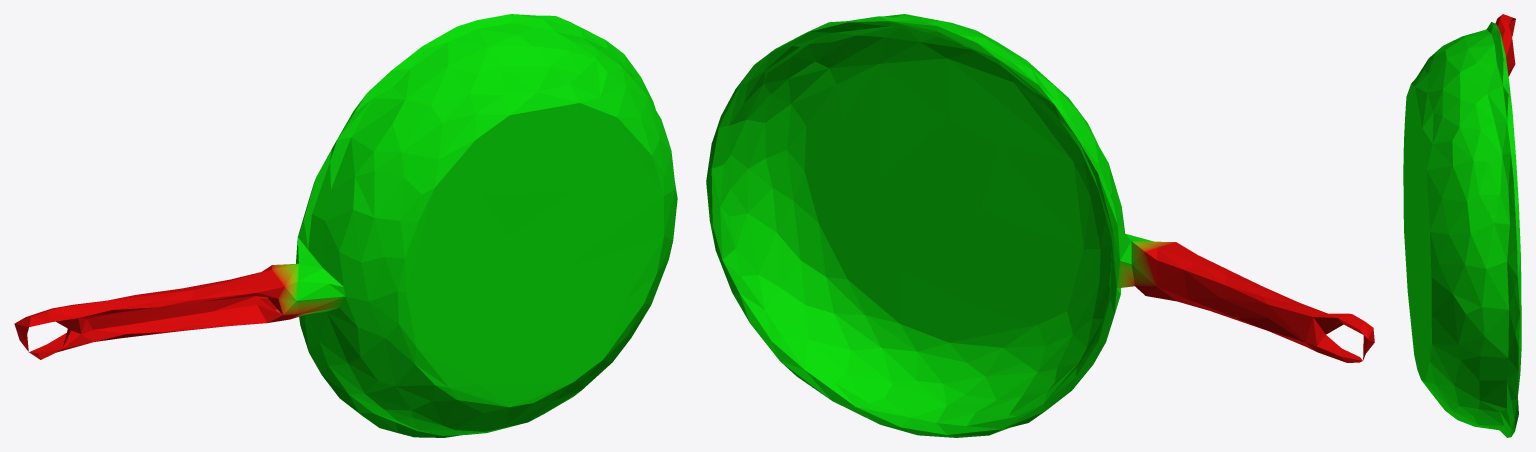
The picture shows the model from 3 angles, left to right: view 1: azimuth 30°, elevation 25°; view 2: azimuth 150°, elevation 25°; view 3: azimuth 270°, elevation 25°; orthographic projection. The views are drawn at different scales.
Visible parts, largest first — view 1: node; view 2: node; view 3: node.
Boxes of the visible parts, left/top/right/bottom form: node: left=14, top=14, right=677, bottom=437; node: left=706, top=14, right=1374, bottom=437; node: left=1403, top=14, right=1521, bottom=437.
Size of the model in its own units: 0.4954 by 0.2973 by 0.0844.
